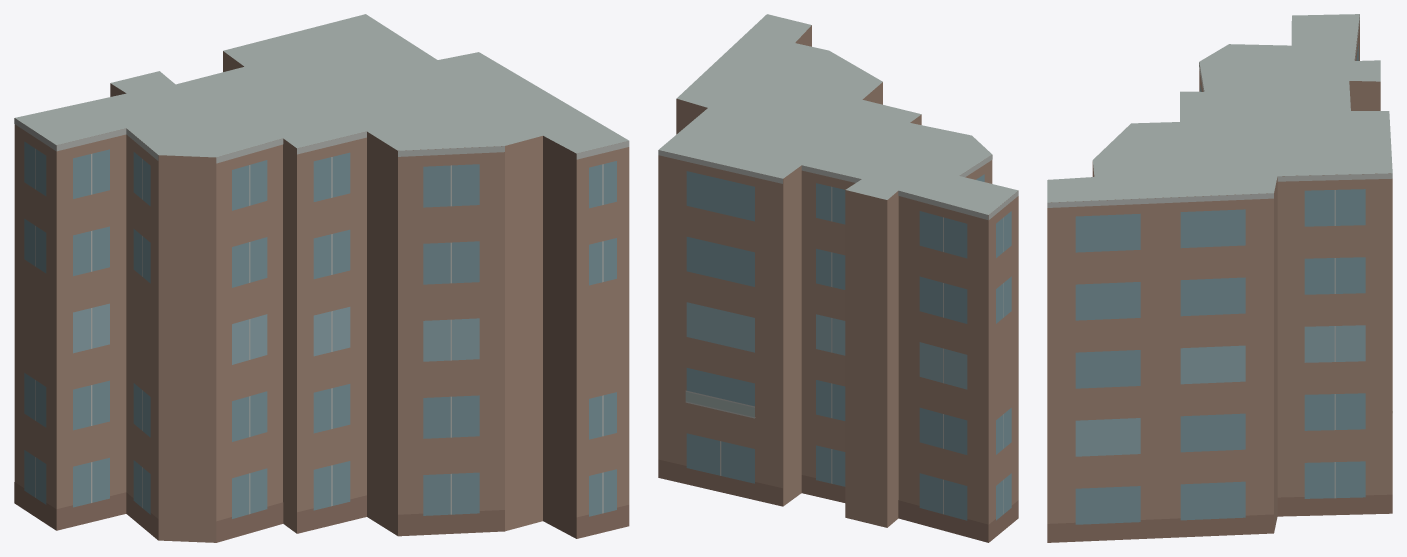
File: survey-upis-32640668.glb
3 views of the same model, side by side, from view 1: azimuth 30°, elevation 25°; view 2: azimuth 150°, elevation 25°; view 3: azimuth 270°, elevation 25° (orthographic). The views are drawn at different scales.
Visible parts, largest first — view 1: survey-upis-32640668.tmp; view 2: survey-upis-32640668.tmp; view 3: survey-upis-32640668.tmp.
Part boxes in pixels (x1,y1,x2,y2): survey-upis-32640668.tmp: [14, 14, 629, 542]; survey-upis-32640668.tmp: [658, 14, 1018, 542]; survey-upis-32640668.tmp: [1047, 14, 1392, 542].
Size of the model in its own units: 18.14 by 15.25 by 14.05.
